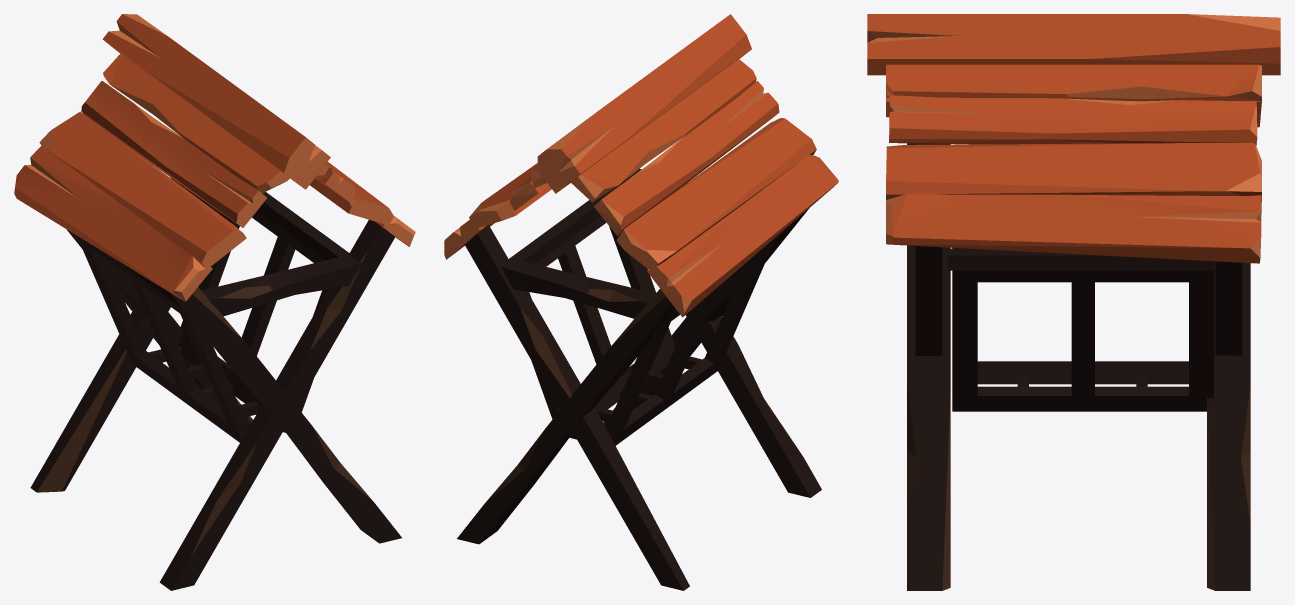
File: Feeder_1_1.fbx
3 renders of one model, left to right at view 1: azimuth 30°, elevation 25°; view 2: azimuth 150°, elevation 25°; view 3: azimuth 270°, elevation 25°, orthographic. The views are drawn at different scales.
Visible parts, largest first — view 1: Feeder_1_1; view 2: Feeder_1_1; view 3: Feeder_1_1.
Part boxes in pixels (x1,y1,x2,y2): Feeder_1_1: (14, 14, 415, 590); Feeder_1_1: (444, 14, 838, 590); Feeder_1_1: (867, 14, 1280, 590).
Bounding box in the file's own units: 34.8 × 58.29 × 42.63.
